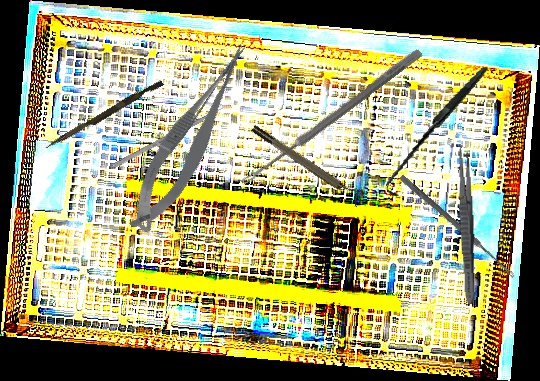Dressing Forceps: (454, 145, 479, 305)
Fixation Ring: (249, 118, 367, 208)
Hook Surgical: (369, 67, 506, 198)
Micro Scissor: (109, 35, 275, 242)
Pusher: (44, 77, 164, 154), (112, 100, 234, 169)
Surgical Spoon: (239, 46, 424, 189), (398, 174, 517, 279)
